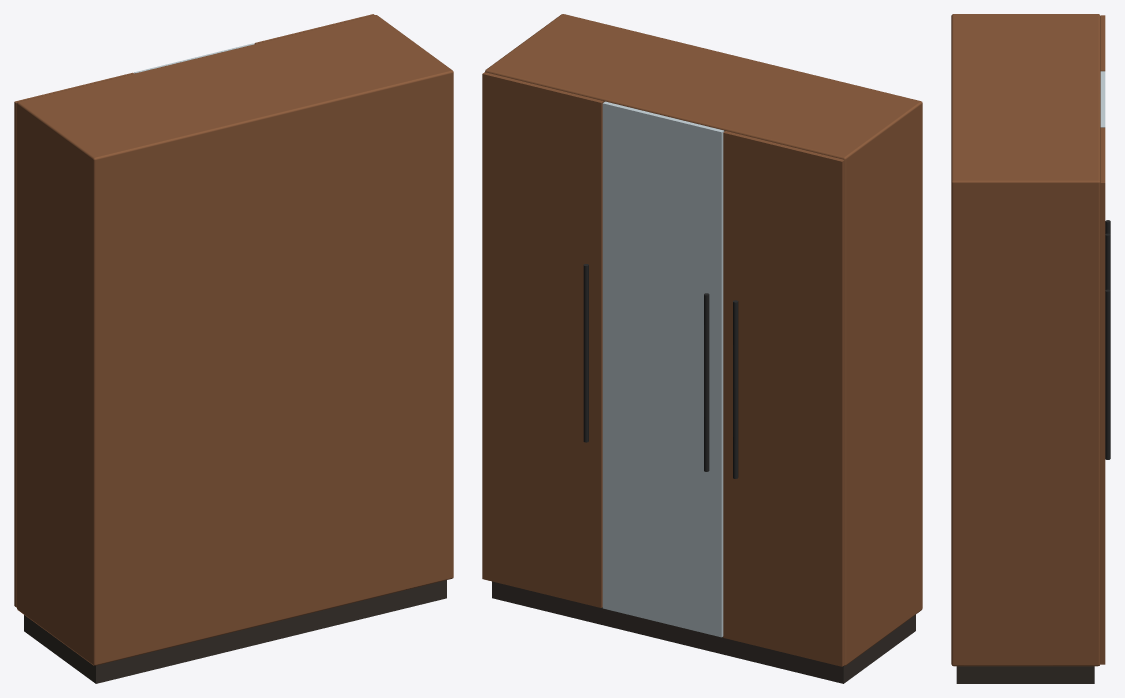
3 views of the same model, side by side, from view 1: azimuth 30°, elevation 25°; view 2: azimuth 150°, elevation 25°; view 3: azimuth 270°, elevation 25° (orthographic). The views are drawn at different scales.
Parts seen in each view (by area): view 1: carcass, plinth, door-1; view 2: carcass, door-1, door-2, door-3, plinth, handle-1, handle-2, handle-3; view 3: carcass, door-3, plinth, handle-3, door-2, handle-2, door-1.
Boxes of the visible parts, <box> form: carcass: <box>17,15,453,665</box>; plinth: <box>24,580,446,683</box>; door-1: <box>14,72,133,607</box>; carcass: <box>485,14,922,665</box>; door-1: <box>723,131,844,666</box>; door-2: <box>602,101,724,637</box>; door-3: <box>482,72,603,607</box>; plinth: <box>492,581,915,683</box>; handle-1: <box>733,300,738,478</box>; handle-2: <box>704,293,709,471</box>; handle-3: <box>583,264,588,442</box>; carcass: <box>951,14,1100,666</box>; door-3: <box>1100,127,1105,664</box>; plinth: <box>956,666,1094,683</box>; handle-3: <box>1105,289,1110,459</box>; door-2: <box>1100,71,1105,127</box>; handle-2: <box>1105,233,1110,290</box>; door-1: <box>1100,15,1105,71</box>.
Bounding box in the file's own units: 1.5 × 2.1 × 0.6.
